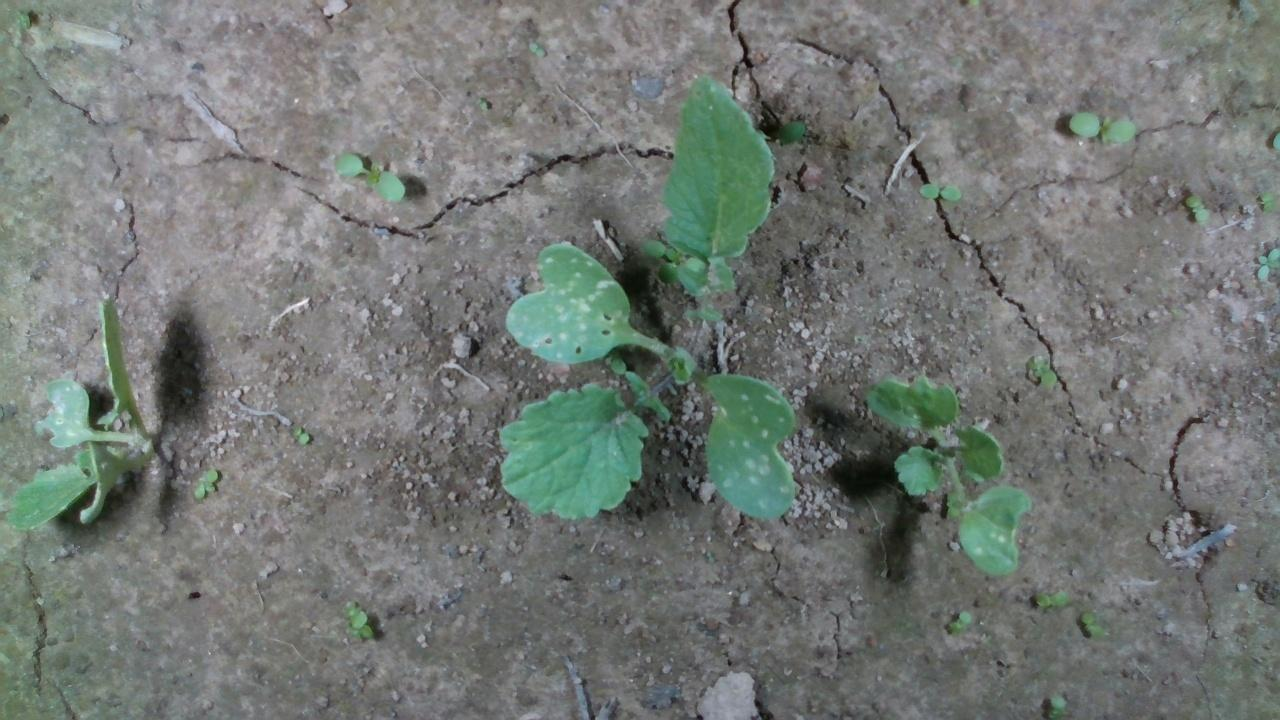weed: (333, 152, 406, 203), (1065, 108, 1136, 144), (1026, 354, 1058, 388), (917, 181, 962, 201), (1182, 192, 1211, 223), (192, 467, 218, 499), (1031, 587, 1067, 608), (1078, 609, 1102, 638), (946, 609, 972, 633), (289, 424, 309, 445), (525, 38, 545, 58), (1257, 191, 1274, 212)
